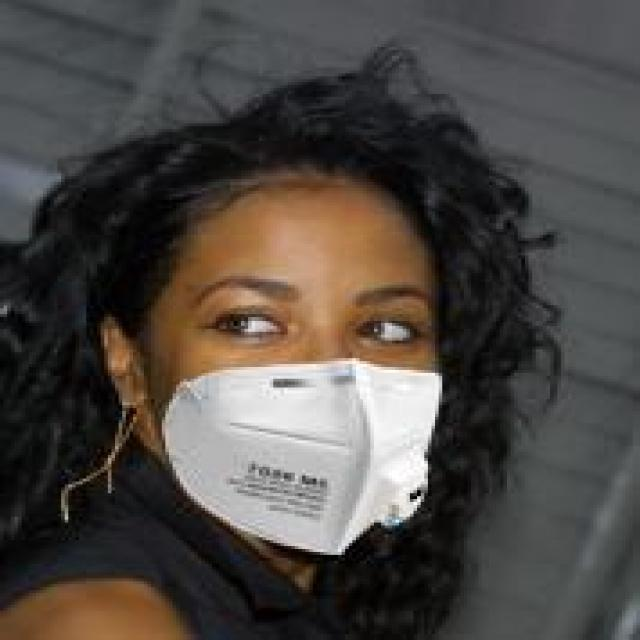mask: (86, 44, 525, 564)
